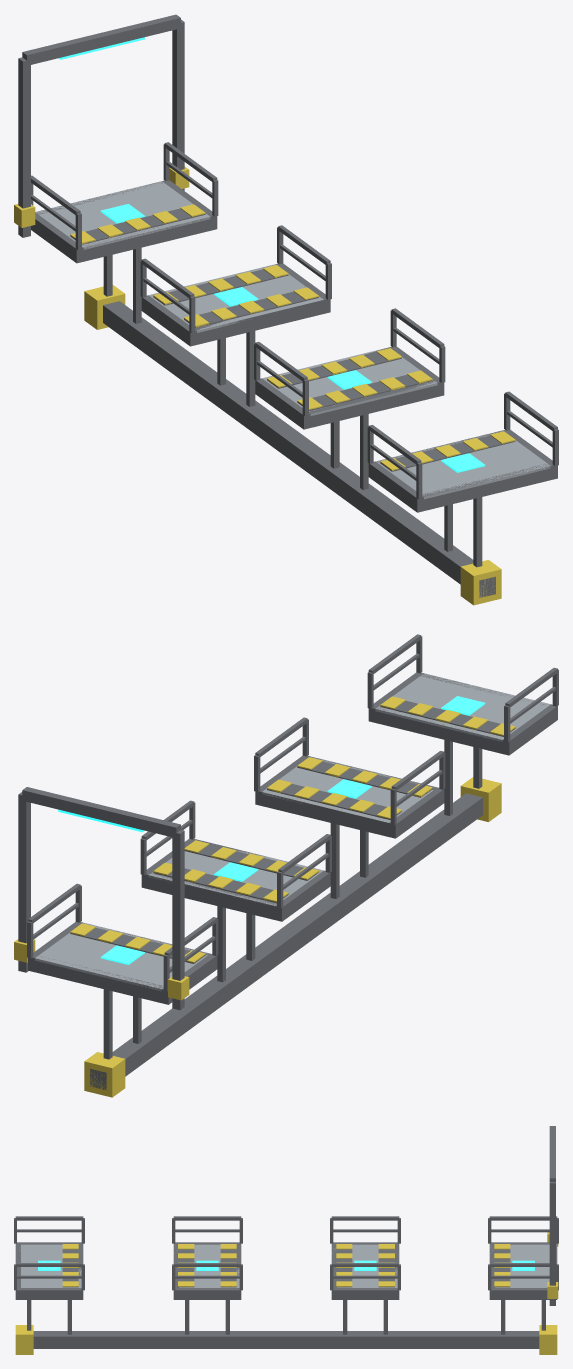
The model's file is scaffold_triple_cadence_g20.glb.
3 renders of one model, top to bottom at view 1: azimuth 30°, elevation 25°; view 2: azimuth 150°, elevation 25°; view 3: azimuth 270°, elevation 25°, orthographic. The views are drawn at different scales.
Parts seen in each view (by area): view 1: Spine, Deck_d, Deck_a, Deck_b, PortalLintel, Deck_c, Header_b_1, Header_d_1, Header_c_1, PortalPost_-1, Header_a_1, PortalPost_1 (+12 smaller); view 2: Spine, Deck_d, Deck_a, PortalLintel, Deck_c, Header_b_0, Header_c_0, Deck_b, PortalPost_-1, PortalPost_1, Header_a_0, Header_d_0 (+16 smaller); view 3: Spine, Deck_d, Deck_a, Deck_c, Deck_b, Frame_d_1, Frame_c_1, Frame_b_1, PortalPost_1, Frame_a_1, Collar_0, Collar_12 (+11 smaller).
Part boxes in pixels (left/top/right/bottom): Spine: left=103, top=301, right=495, bottom=597; Deck_d: left=376, top=431, right=550, bottom=499; Deck_a: left=35, top=181, right=210, bottom=249; Deck_b: left=148, top=264, right=323, bottom=332; PortalLintel: left=22, top=14, right=180, bottom=64; Deck_c: left=262, top=347, right=437, bottom=415; Header_b_1: left=186, top=295, right=330, bottom=346; Header_d_1: left=413, top=462, right=557, bottom=512; Header_c_1: left=300, top=379, right=438, bottom=429; PortalPost_-1: left=18, top=57, right=30, bottom=237; Header_a_1: left=73, top=216, right=216, bottom=262; PortalPost_1: left=172, top=19, right=184, bottom=190; Spine: left=90, top=793, right=482, bottom=1089; Deck_d: left=375, top=673, right=550, bottom=741; Deck_a: left=35, top=922, right=208, bottom=991; PortalLintel: left=22, top=787, right=180, bottom=837; Deck_c: left=262, top=756, right=434, bottom=822; Header_b_0: left=141, top=871, right=285, bottom=921; Header_c_0: left=255, top=791, right=399, bottom=837; Deck_b: left=148, top=851, right=323, bottom=906; PortalPost_-1: left=172, top=830, right=184, bottom=1010; PortalPost_1: left=18, top=792, right=30, bottom=972; Header_a_0: left=28, top=954, right=168, bottom=1004; Header_d_0: left=369, top=705, right=512, bottom=753; Spine: left=33, top=1331, right=539, bottom=1348; Deck_d: left=19, top=1244, right=81, bottom=1287; Deck_a: left=490, top=1244, right=549, bottom=1287; Deck_c: left=174, top=1244, right=239, bottom=1287; Deck_b: left=331, top=1244, right=397, bottom=1287; Frame_d_1: left=15, top=1288, right=83, bottom=1299; Frame_c_1: left=173, top=1288, right=241, bottom=1299; Frame_b_1: left=331, top=1288, right=399, bottom=1299; PortalPost_1: left=549, top=1182, right=555, bottom=1305; Frame_a_1: left=489, top=1288, right=556, bottom=1299; Collar_0: left=539, top=1325, right=557, bottom=1354; Collar_12: left=15, top=1325, right=33, bottom=1354.
Size of the model in its own units: 2.98 by 4.84 by 12.07.
